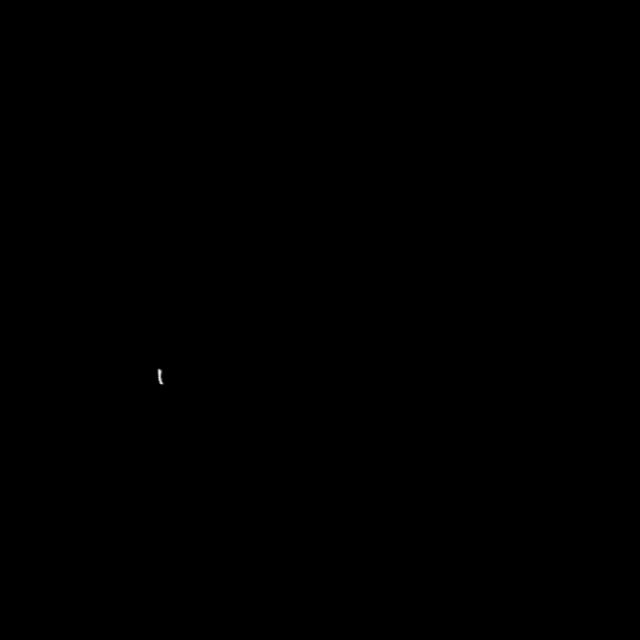one -1-: (138, 356, 185, 404)
